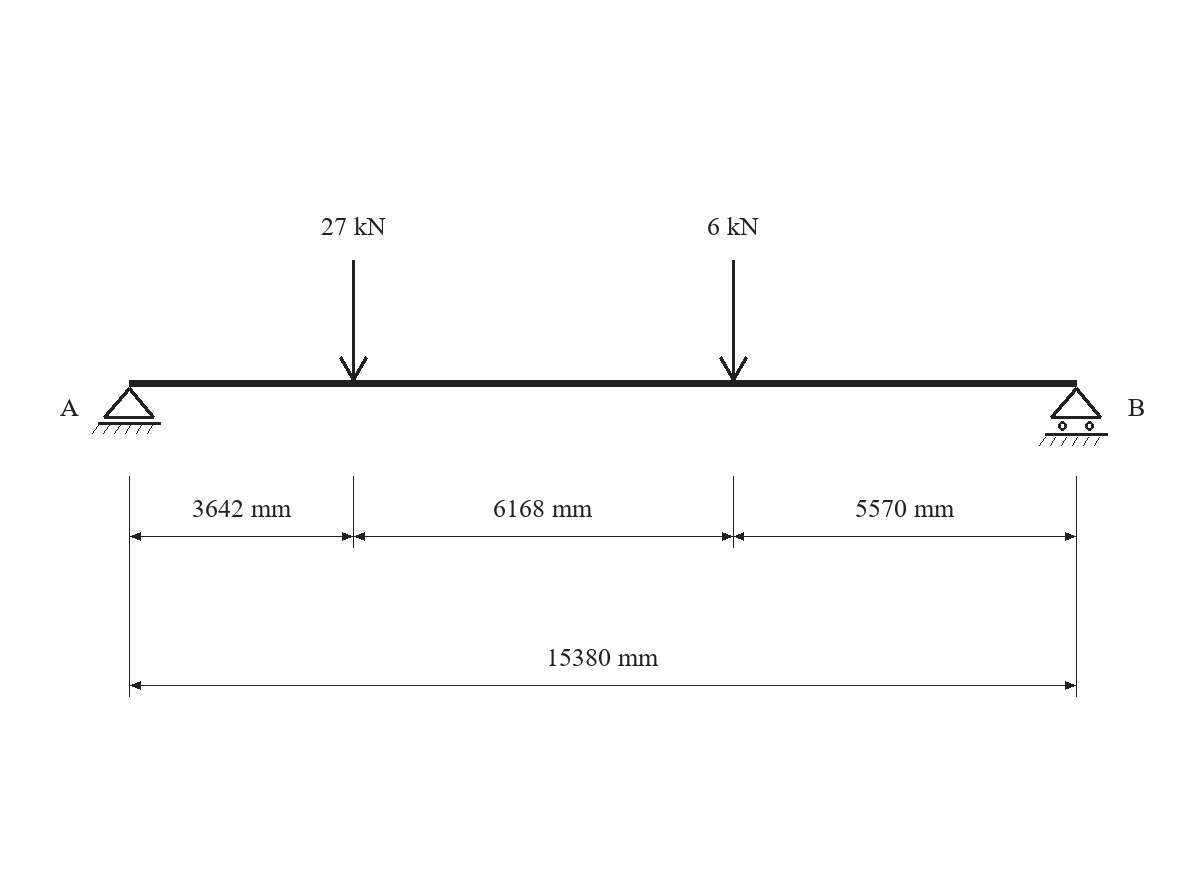pin_support: (92, 387, 161, 434)
point_load: (339, 260, 368, 381), (719, 260, 748, 381)
roller_support: (1039, 387, 1108, 446)
